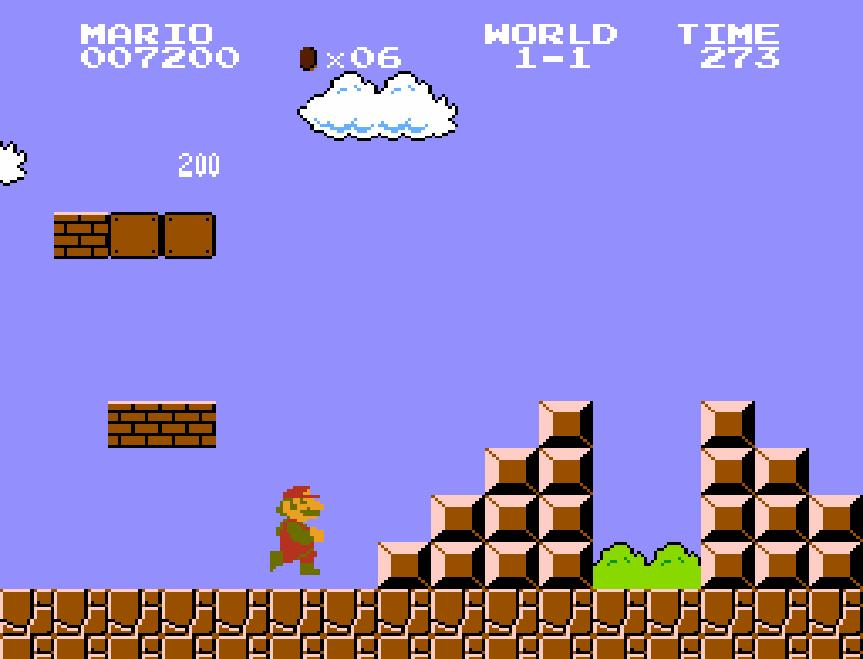big_mario: (267, 478, 325, 576)
